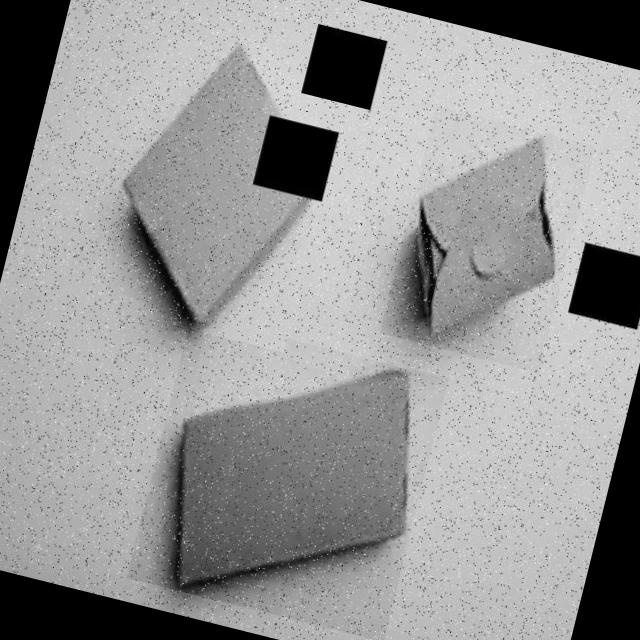box: (125, 314, 448, 640), (83, 23, 353, 352), (378, 106, 596, 373)
